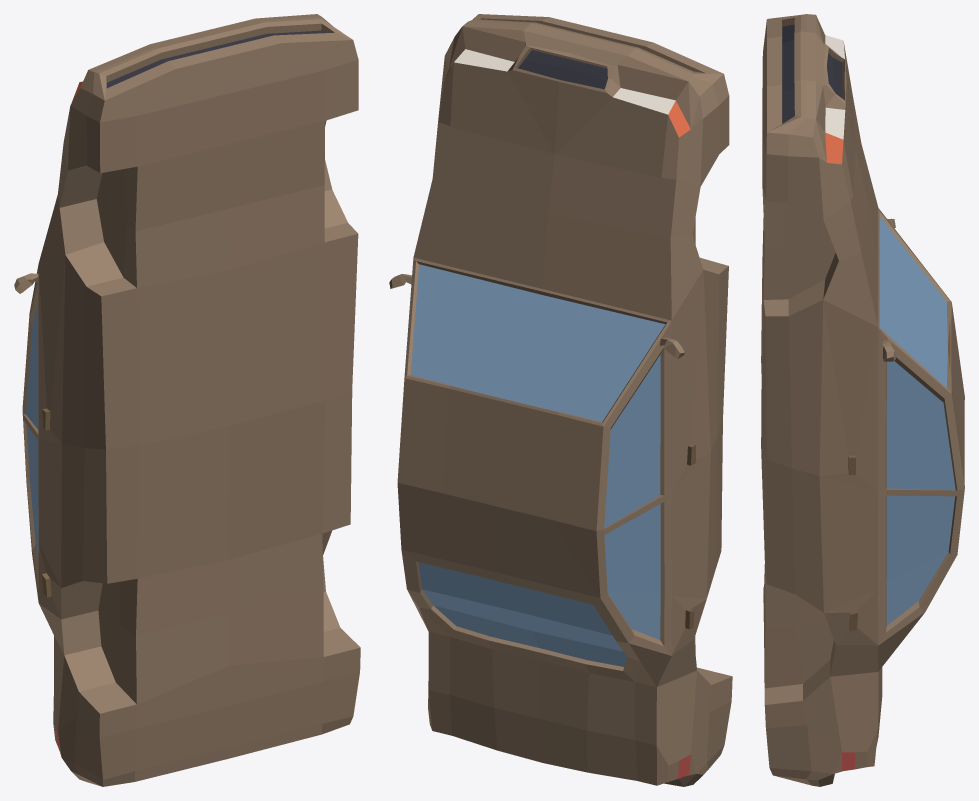
The model's file is car_chassis.fbx.
3 renders of one model, left to right at view 1: azimuth 30°, elevation 25°; view 2: azimuth 150°, elevation 25°; view 3: azimuth 270°, elevation 25°, orthographic. The views are drawn at different scales.
Visible parts, largest first — view 1: Cube; view 2: Cube; view 3: Cube.
Boxes of the visible parts, box(x1,y1,x2,y2) form: Cube: box(14, 14, 360, 786); Cube: box(389, 14, 732, 786); Cube: box(761, 14, 964, 786).
Size of the model in its own units: 154 by 243 by 565.
